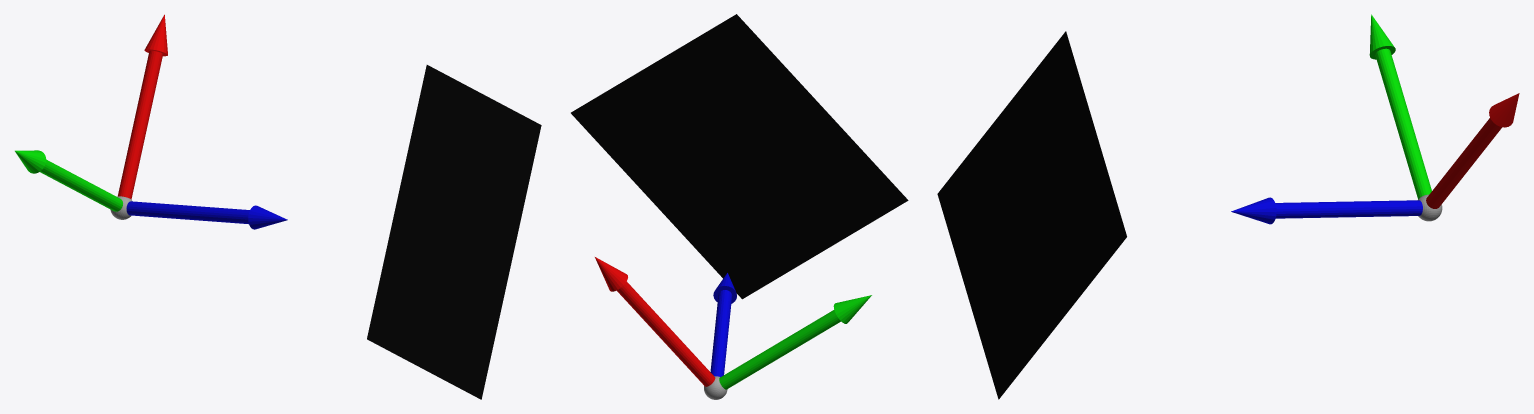
3 views of the same model, side by side, from view 1: azimuth 30°, elevation 25°; view 2: azimuth 150°, elevation 25°; view 3: azimuth 270°, elevation 25° (orthographic). The views are drawn at different scales.
Bounding box in the file's own units: 0.2978 × 0.2176 × 0.3227.
